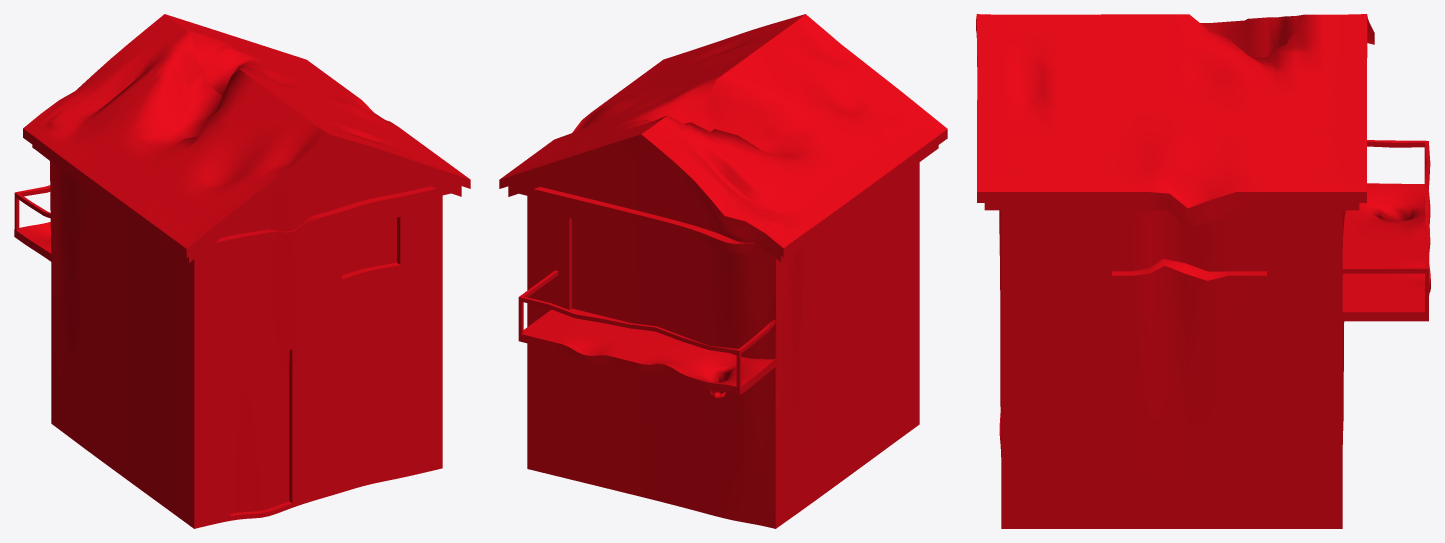
Rendered from broken_house_1_2.fbx.
3 views of the same model, side by side, from view 1: azimuth 30°, elevation 25°; view 2: azimuth 150°, elevation 25°; view 3: azimuth 270°, elevation 25° (orthographic). The views are drawn at different scales.
Parts seen in each view (by area): view 1: house; view 2: house; view 3: house.
Boxes of the visible parts, left/top/right/bottom form: house: left=14, top=14, right=470, bottom=528; house: left=499, top=14, right=947, bottom=528; house: left=976, top=14, right=1430, bottom=528.
Bounding box in the file's own units: 1105 × 1381 × 1268.
